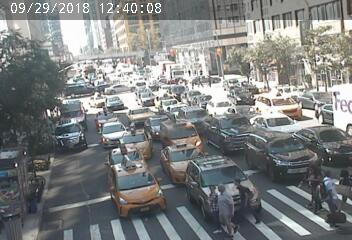car: (250, 132, 305, 180), (186, 161, 244, 205), (109, 161, 161, 206), (202, 115, 257, 146), (306, 126, 351, 162), (159, 119, 204, 147), (161, 148, 196, 179), (265, 90, 305, 115), (118, 130, 155, 155), (256, 111, 295, 131), (56, 124, 87, 149), (168, 83, 201, 105), (106, 147, 140, 165), (128, 103, 156, 123), (99, 122, 124, 141), (146, 116, 171, 134), (62, 104, 86, 122), (68, 82, 97, 95), (104, 81, 132, 94), (210, 99, 235, 113), (179, 106, 205, 119), (96, 111, 117, 127), (138, 91, 158, 106), (105, 98, 126, 112), (158, 96, 177, 111), (135, 81, 148, 90)
